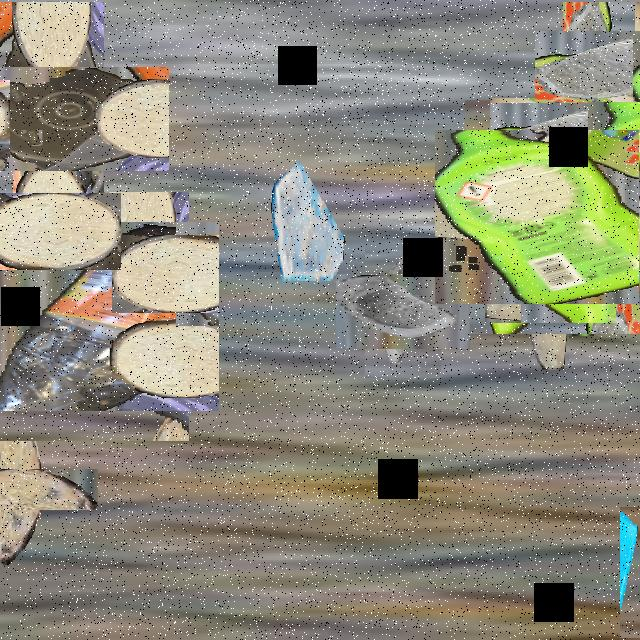glass: (350, 258, 456, 364), (271, 156, 345, 288), (549, 16, 640, 116), (0, 185, 68, 280), (620, 507, 640, 638)
plastic: (0, 207, 204, 426), (450, 114, 640, 319), (0, 34, 136, 203), (537, 49, 640, 199)
wood: (0, 176, 106, 285), (508, 262, 592, 346), (0, 440, 70, 537)
